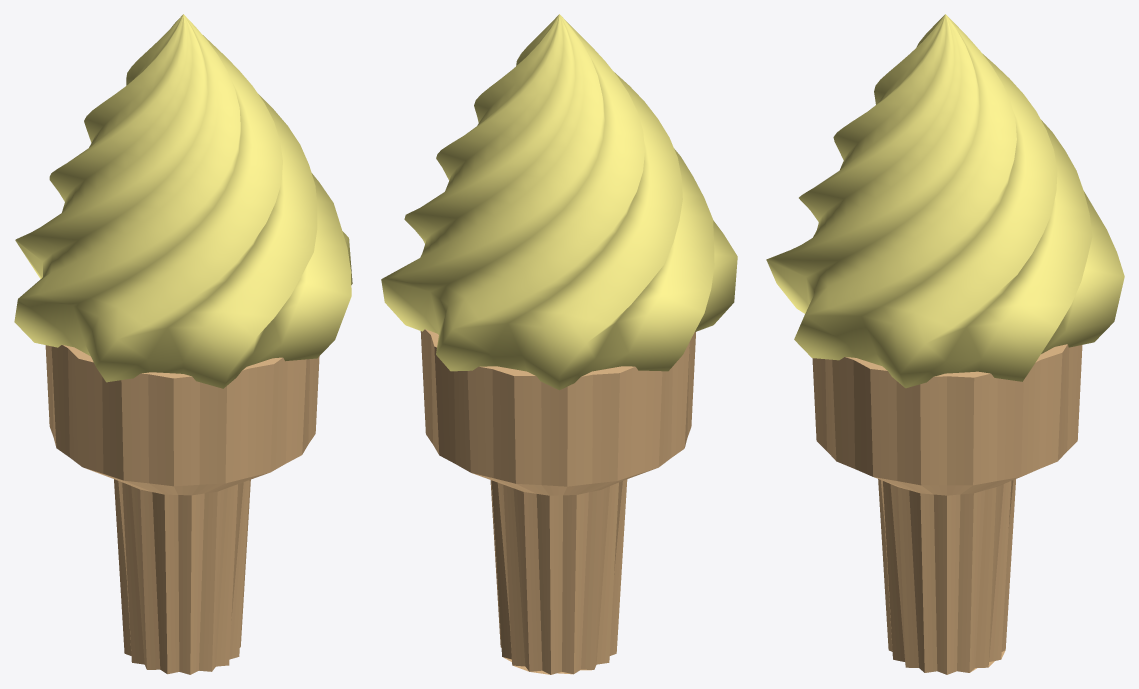
File: icecreamvanillaJ.fbx
3 renders of one model, left to right at view 1: azimuth 30°, elevation 25°; view 2: azimuth 150°, elevation 25°; view 3: azimuth 270°, elevation 25°, orthographic.
Parts seen in each view (by area): view 1: icecream2, icecreamcorn2; view 2: icecream2, icecreamcorn2; view 3: icecream2, icecreamcorn2.
Part boxes in pixels (left/top/right/bottom): icecream2: left=14, top=14, right=352, bottom=388; icecreamcorn2: left=45, top=345, right=319, bottom=674; icecream2: left=381, top=14, right=737, bottom=390; icecreamcorn2: left=420, top=329, right=695, bottom=674; icecream2: left=766, top=14, right=1124, bottom=388; icecreamcorn2: left=812, top=344, right=1082, bottom=674.
Bounding box in the file's own units: 340 × 665 × 340.
